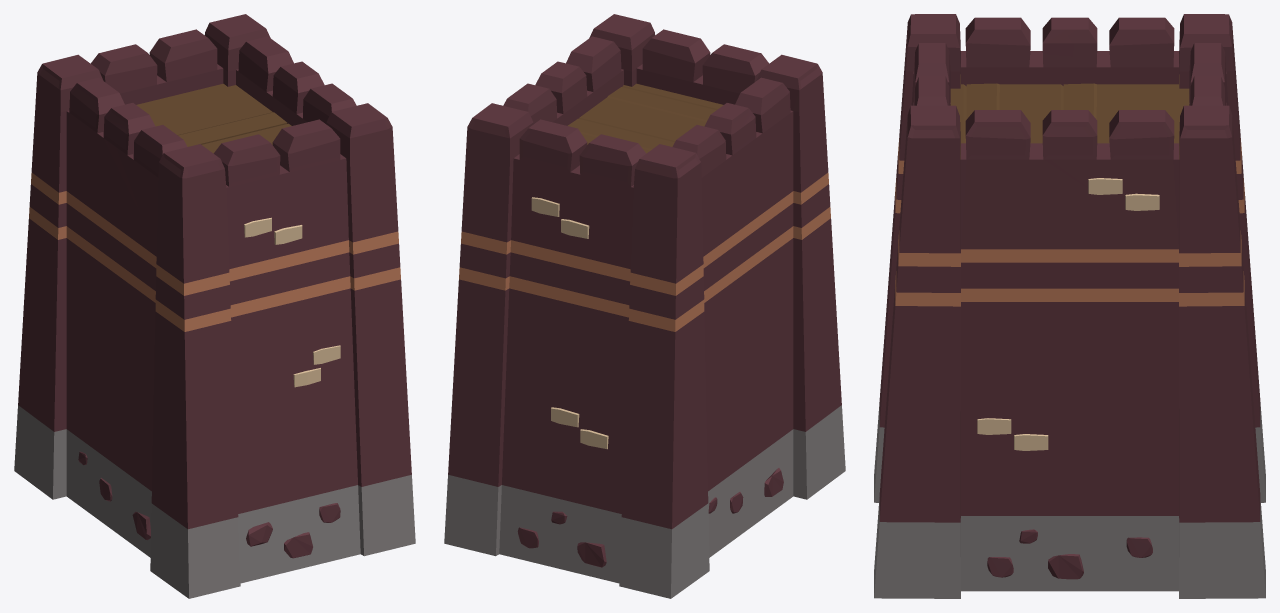
The model's file is SM_Tower_Fortified_Empire.fbx.
The picture shows the model from 3 angles, left to right: view 1: azimuth 30°, elevation 25°; view 2: azimuth 150°, elevation 25°; view 3: azimuth 270°, elevation 25°; orthographic projection. The views are drawn at different scales.
Visible parts, largest first — view 1: SM_Tower_Fortified_Empire; view 2: SM_Tower_Fortified_Empire; view 3: SM_Tower_Fortified_Empire.
Part boxes in pixels (x1,y1,x2,y2): SM_Tower_Fortified_Empire: [14, 14, 415, 598]; SM_Tower_Fortified_Empire: [444, 14, 845, 598]; SM_Tower_Fortified_Empire: [874, 14, 1265, 598].
Bounding box in the file's own units: 5.99 × 10.53 × 8.
